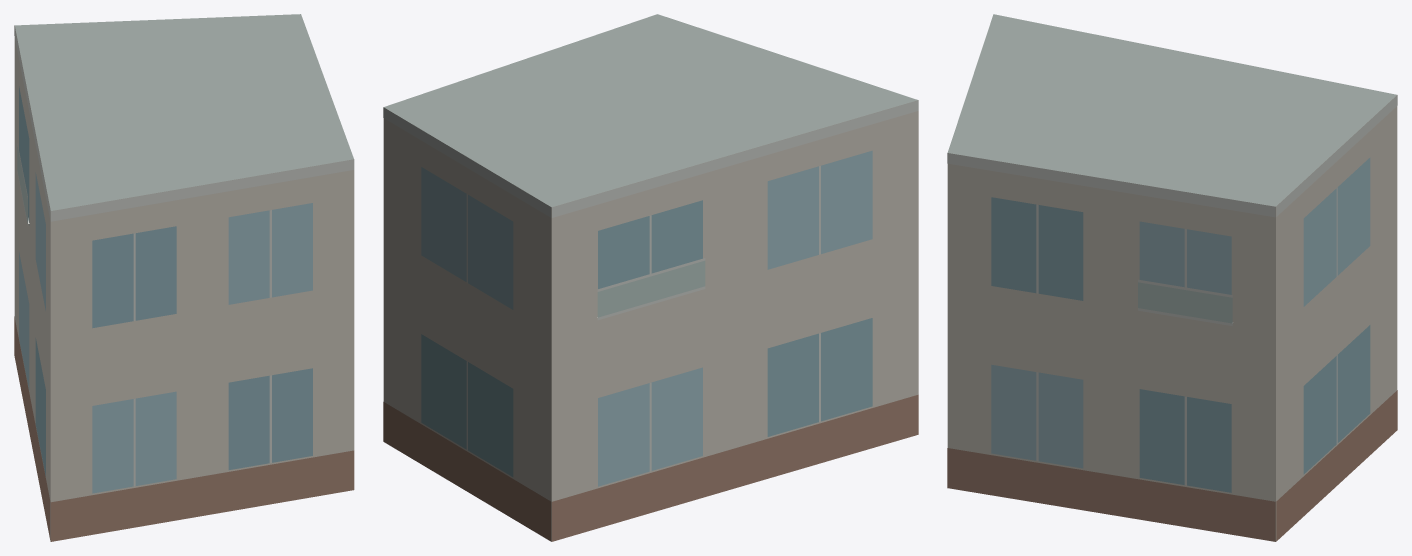
The model's file is survey-upis-32962729.glb.
3 renders of one model, left to right at view 1: azimuth 30°, elevation 25°; view 2: azimuth 150°, elevation 25°; view 3: azimuth 270°, elevation 25°, orthographic.
Visible parts, largest first — view 1: survey-upis-32962729.tmp; view 2: survey-upis-32962729.tmp; view 3: survey-upis-32962729.tmp.
Part boxes in pixels (left/top/right/bottom): survey-upis-32962729.tmp: left=14, top=14, right=354, bottom=541; survey-upis-32962729.tmp: left=383, top=14, right=918, bottom=541; survey-upis-32962729.tmp: left=947, top=14, right=1397, bottom=541.
Size of the model in its own units: 9.38 by 7.6 by 9.26.
